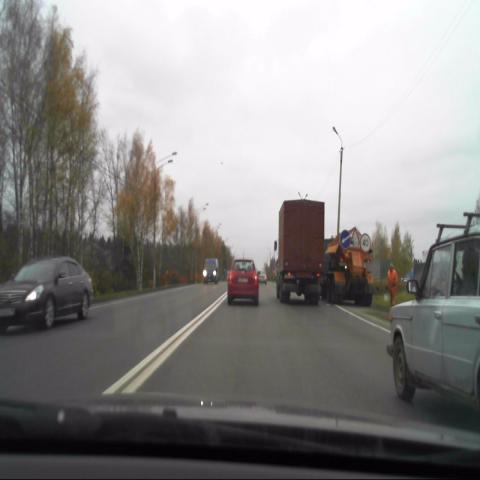1_18: (350, 228, 360, 251)
